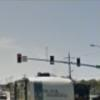traffic lights: (49, 55, 55, 66)
